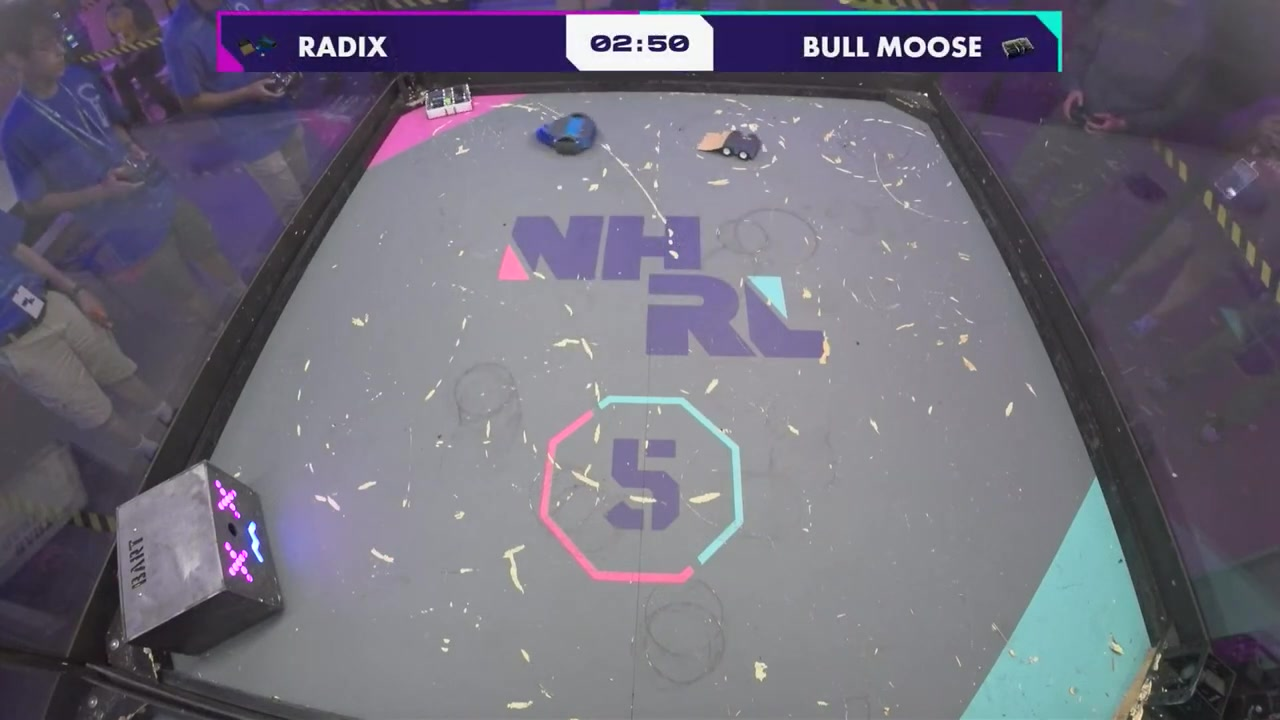combatbot: (536, 112, 599, 159), (420, 84, 476, 121), (696, 129, 761, 159)
housebot: (113, 460, 288, 656)
